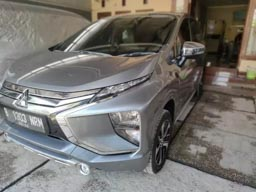plat: (3, 107, 45, 132)
